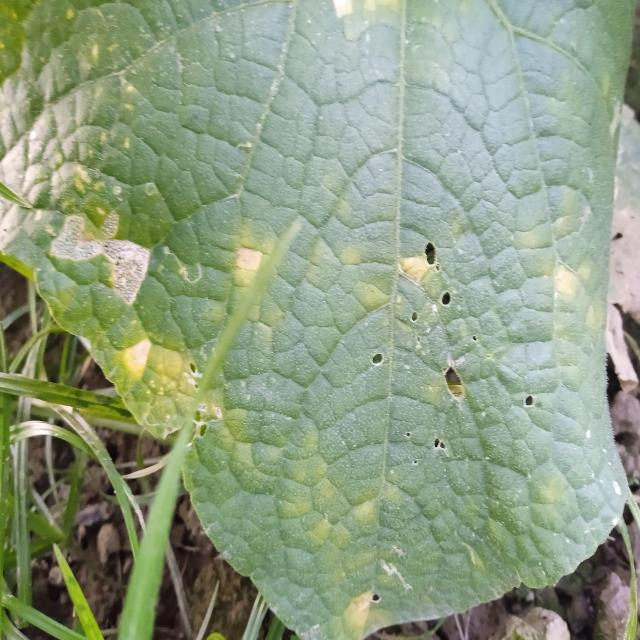cucumber_downy: (51, 156, 612, 579)
